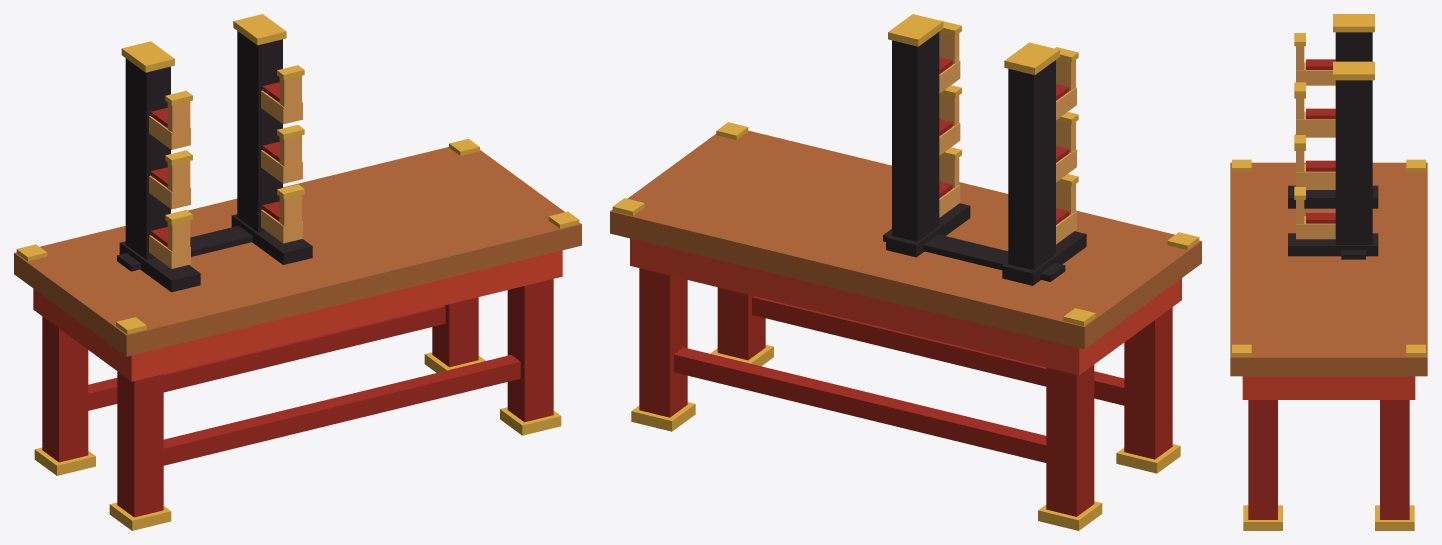
The model's file is SwordTable.fbx.
3 views of the same model, side by side, from view 1: azimuth 30°, elevation 25°; view 2: azimuth 150°, elevation 25°; view 3: azimuth 270°, elevation 25° (orthographic). The views are drawn at different scales.
Parts seen in each view (by area): view 1: SwordTable_fd_wood_dk, SwordTable_fd_red_dk, SwordTable_fd_lacquer, SwordTable_fd_red, SwordTable_gold, SwordTable_fd_wood; view 2: SwordTable_fd_wood_dk, SwordTable_fd_red_dk, SwordTable_fd_lacquer, SwordTable_fd_red, SwordTable_gold, SwordTable_fd_wood; view 3: SwordTable_fd_wood_dk, SwordTable_fd_lacquer, SwordTable_fd_red_dk, SwordTable_gold, SwordTable_fd_red, SwordTable_fd_wood.
Boxes of the visible parts, x1,y1,x2,y2 form: SwordTable_fd_wood_dk: (14, 147, 581, 356); SwordTable_fd_red_dk: (42, 82, 553, 517); SwordTable_fd_lacquer: (117, 31, 312, 292); SwordTable_fd_red: (33, 250, 562, 381); SwordTable_gold: (16, 14, 579, 530); SwordTable_fd_wood: (149, 75, 302, 268); SwordTable_fd_wood_dk: (610, 130, 1201, 349); SwordTable_fd_red_dk: (639, 57, 1172, 516); SwordTable_fd_lacquer: (883, 32, 1086, 285); SwordTable_fd_red: (630, 238, 1181, 375); SwordTable_gold: (612, 14, 1199, 530); SwordTable_fd_wood: (939, 32, 1076, 244); SwordTable_fd_wood_dk: (1230, 162, 1427, 376); SwordTable_fd_lacquer: (1288, 32, 1378, 259); SwordTable_fd_red_dk: (1248, 59, 1409, 519); SwordTable_gold: (1232, 14, 1425, 530); SwordTable_fd_red: (1242, 376, 1415, 399); SwordTable_fd_wood: (1296, 46, 1335, 239).
Bounding box in the file's own units: 5.6 × 4.84 × 2.4.
